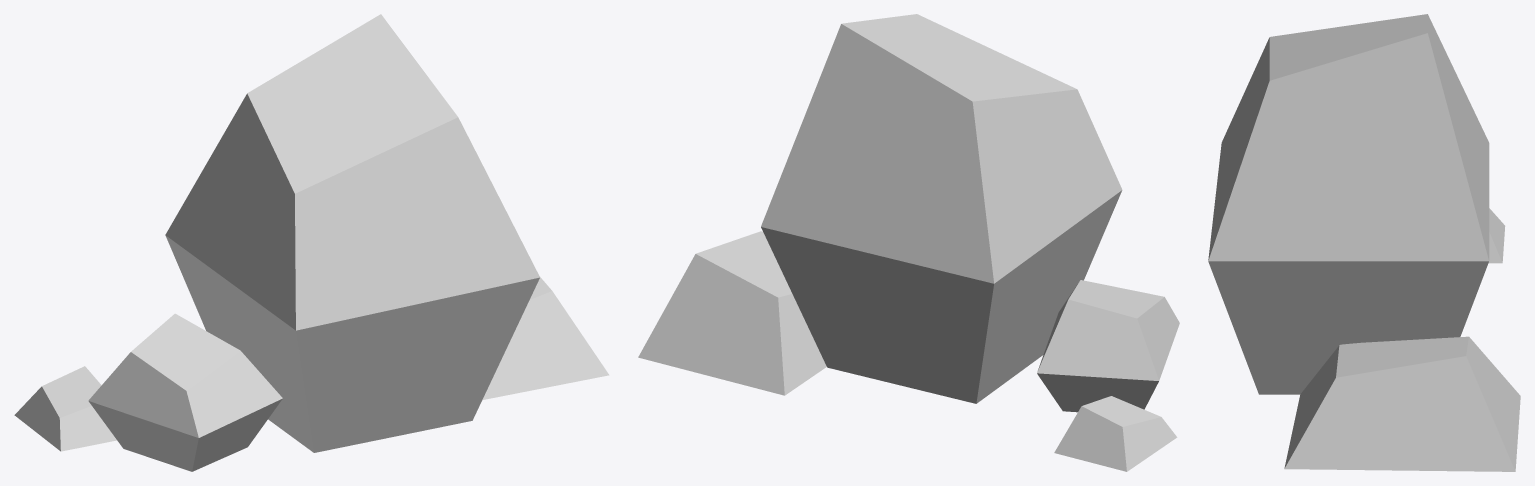
File: obj_rock_6.fbx
3 renders of one model, left to right at view 1: azimuth 30°, elevation 25°; view 2: azimuth 150°, elevation 25°; view 3: azimuth 270°, elevation 25°, orthographic. The views are drawn at different scales.
Visible parts, largest first — view 1: obj_rock_6; view 2: obj_rock_6; view 3: obj_rock_6.
Boxes of the visible parts, bbox=[...] form: obj_rock_6: bbox=[14, 14, 609, 471]; obj_rock_6: bbox=[638, 14, 1179, 471]; obj_rock_6: bbox=[1208, 14, 1520, 471].
Bounding box in the file's own units: 4.03 × 2.71 × 2.15.
1 material, 1 textured.
